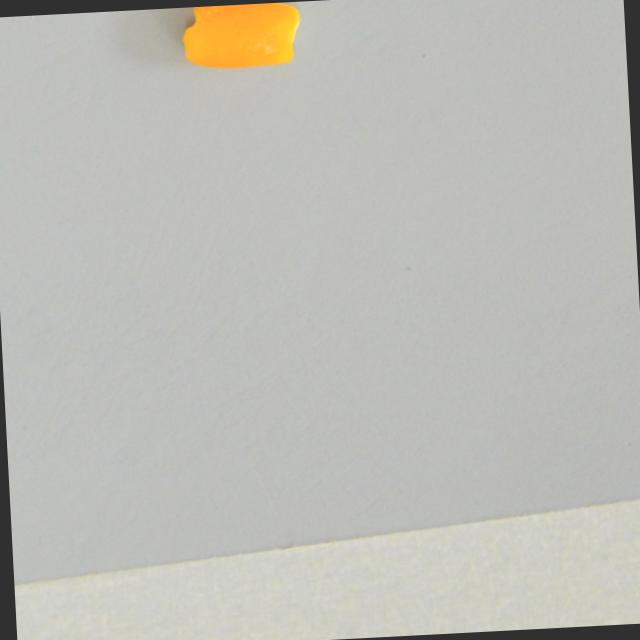pelicula: (176, 1, 303, 73)
